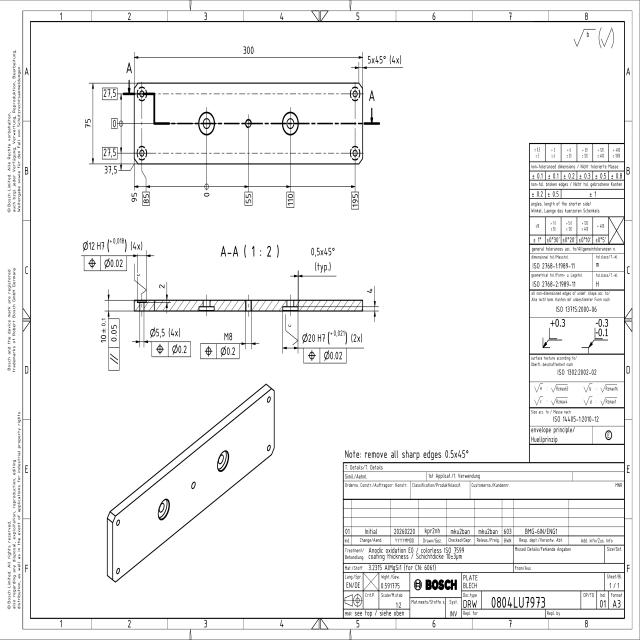dimension: (302, 327, 364, 345), (82, 236, 143, 254), (310, 246, 336, 273), (366, 52, 404, 66), (149, 326, 181, 339), (98, 317, 108, 345), (102, 86, 117, 100), (242, 43, 255, 57), (102, 147, 117, 159), (351, 192, 359, 209), (104, 166, 117, 176), (130, 191, 138, 205), (287, 192, 294, 208), (223, 331, 233, 342), (83, 118, 92, 130), (142, 192, 150, 205), (245, 192, 252, 205), (202, 191, 211, 199), (158, 282, 165, 290), (112, 118, 117, 128), (367, 287, 373, 294)
